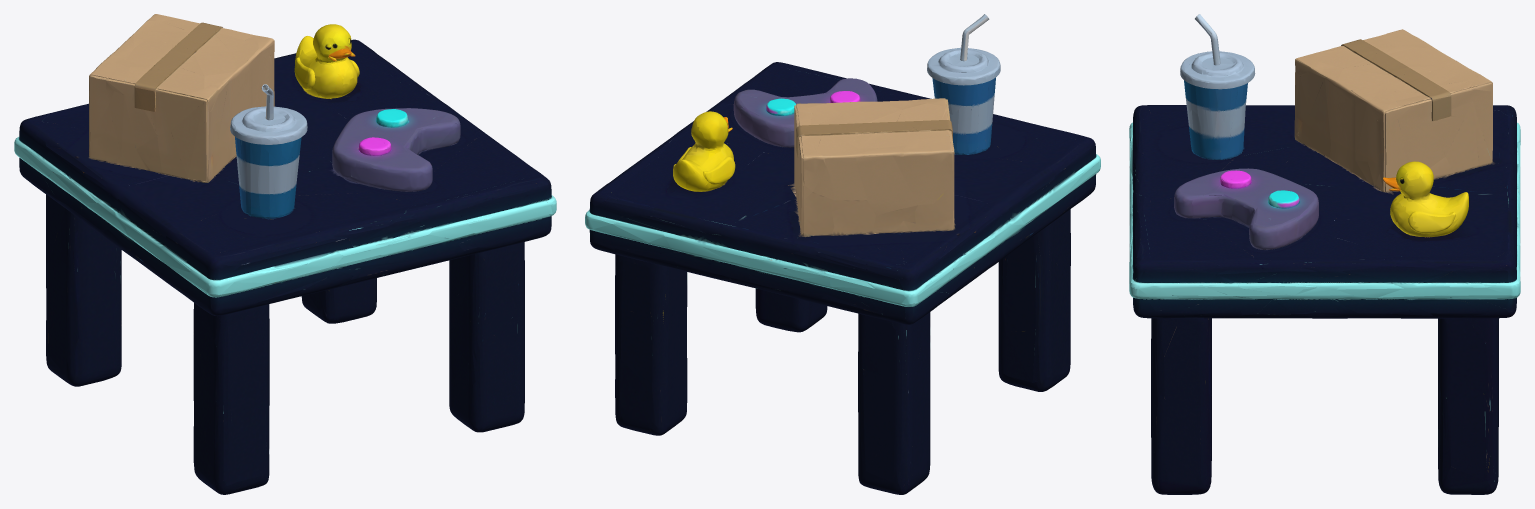
File: mesa-objetos.glb
3 renders of one model, left to right at view 1: azimuth 30°, elevation 25°; view 2: azimuth 150°, elevation 25°; view 3: azimuth 270°, elevation 25°, orthographic. The views are drawn at different scales.
Visible parts, largest first — view 1: Mesh_0; view 2: Mesh_0; view 3: Mesh_0.
Boxes of the visible parts, x1,y1,x2,y2 form: Mesh_0: [14, 14, 556, 494]; Mesh_0: [585, 14, 1100, 494]; Mesh_0: [1129, 14, 1520, 494].
Bounding box in the file's own units: 1.81 × 1.9 × 1.81.
1 material, 1 textured.
